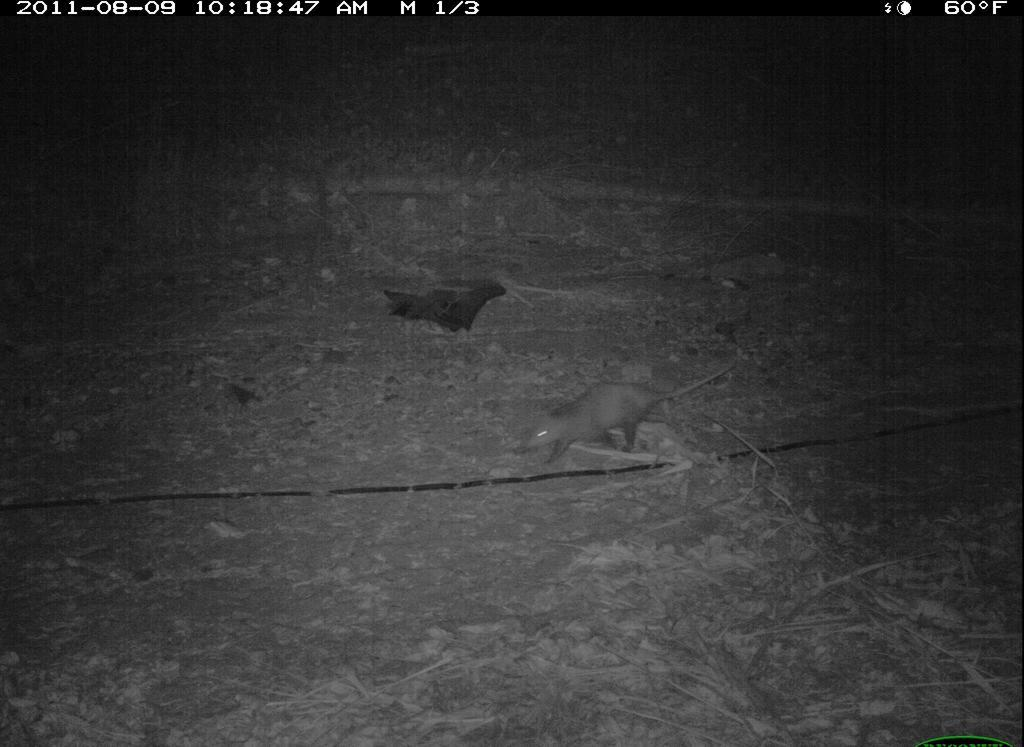opossum: (498, 349, 739, 484)
